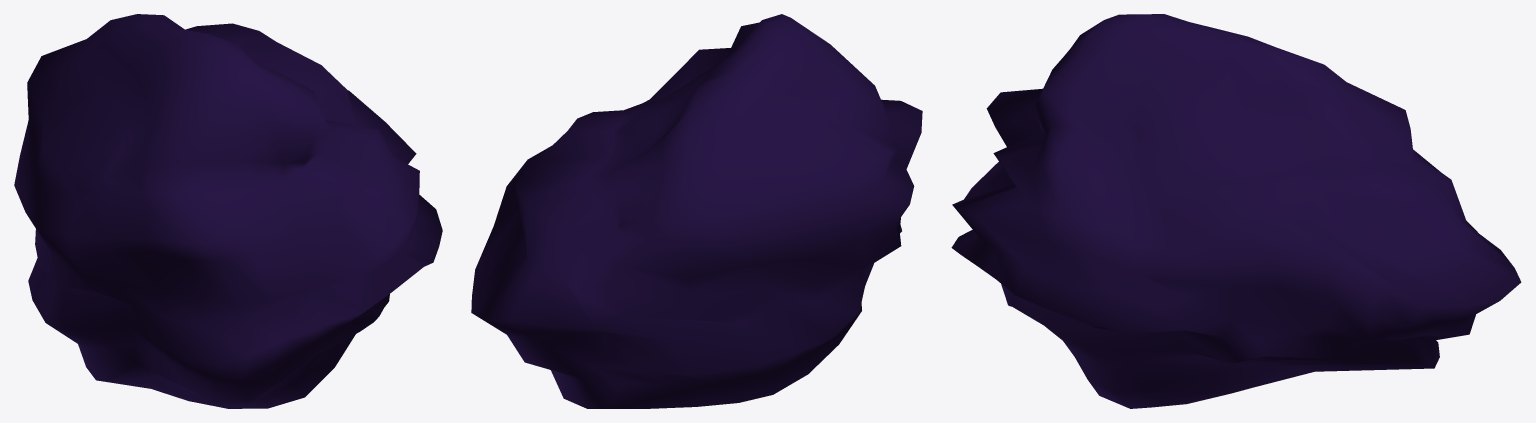
Rendered from Kairosit.fbx.
3 views of the same model, side by side, from view 1: azimuth 30°, elevation 25°; view 2: azimuth 150°, elevation 25°; view 3: azimuth 270°, elevation 25° (orthographic). The views are drawn at different scales.
Visible parts, largest first — view 1: Artifact.001; view 2: Artifact.001; view 3: Artifact.001.
Boxes of the visible parts, x1,y1,x2,y2 form: Artifact.001: [14, 14, 442, 408]; Artifact.001: [471, 14, 922, 408]; Artifact.001: [951, 14, 1521, 408].
Size of the model in its own units: 81.92 by 77.9 by 109.
